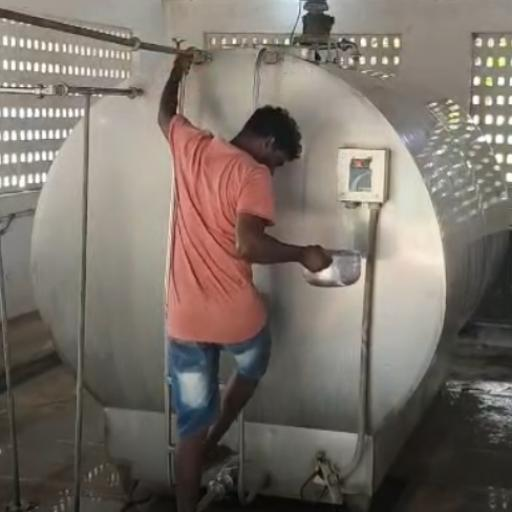silo: (183, 37, 509, 497), (27, 46, 180, 479)
vessel: (301, 248, 363, 289)
